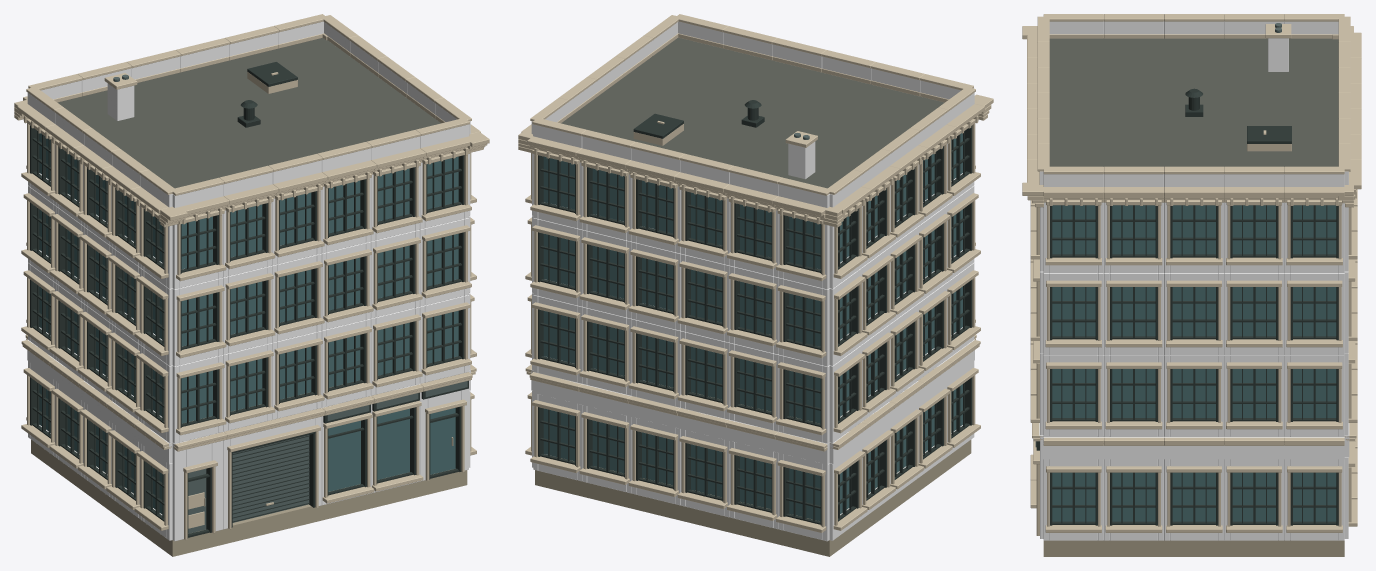
The model's file is garage-loft.glb.
3 renders of one model, left to right at view 1: azimuth 30°, elevation 25°; view 2: azimuth 150°, elevation 25°; view 3: azimuth 270°, elevation 25°, orthographic. The views are drawn at different scales.
Visible parts, largest first — view 1: Connected roof.015, Foundation.015, opening/nyc/garage/door.002, opening/nyc/garage/frame.002, nyc-main/north/0/833/wall.010, nyc-main/north/0/7500/glass.010, nyc-main/north/0/5833/glass.010, nyc-main/north/0/9167/glass.010, opening/nyc/garage/wall.002, opening/nyc/garage/trim.002, nyc-main/north/0/5833/trim.010, nyc-main/north/0/9167/wall.010 (+142 smaller); view 2: Connected roof.015, Foundation.015, nyc-main/south/1/833/wall.010, nyc-main/south/2/833/wall.010, nyc-main/south/0/833/frame.010, nyc-main/south/1/7500/glass.010, nyc-main/south/2/833/frame.010, nyc-main/south/2/7500/glass.010, nyc-main/south/0/7500/glass.010, nyc-main/south/1/833/frame.010, nyc-main/south/3/833/frame.010, nyc-main/south/3/7500/glass.010 (+154 smaller); view 3: Connected roof.015, Foundation.015, nyc-main/east/0/5000/glass.013, nyc-main/east/2/5000/glass.013, nyc-main/east/3/5000/glass.010, nyc-main/east/0/9000/glass.013, nyc-main/east/1/5000/glass.013, nyc-main/east/0/1000/glass.013, nyc-main/east/0/7000/glass.013, nyc-main/east/2/9000/glass.013, nyc-main/east/2/1000/glass.013, nyc-main/east/2/7000/glass.013 (+114 smaller).
Boxes of the visible parts, bbox=[...] form: Connected roof.015: bbox=[58, 38, 440, 188]; Foundation.015: bbox=[31, 384, 467, 556]; opening/nyc/garage/door.002: bbox=[232, 435, 309, 522]; opening/nyc/garage/frame.002: bbox=[231, 431, 315, 527]; nyc-main/north/0/833/wall.010: bbox=[172, 440, 223, 541]; nyc-main/north/0/7500/glass.010: bbox=[377, 408, 409, 479]; nyc-main/north/0/5833/glass.010: bbox=[328, 420, 360, 491]; nyc-main/north/0/9167/glass.010: bbox=[430, 408, 455, 474]; opening/nyc/garage/wall.002: bbox=[223, 416, 321, 529]; opening/nyc/garage/trim.002: bbox=[227, 424, 320, 529]; nyc-main/north/0/5833/trim.010: bbox=[322, 412, 374, 503]; nyc-main/north/0/9167/wall.010: bbox=[420, 388, 468, 481]; Connected roof.015: bbox=[561, 37, 944, 188]; Foundation.015: bbox=[535, 384, 971, 556]; nyc-main/south/1/833/wall.010: bbox=[778, 355, 829, 443]; nyc-main/south/2/833/wall.010: bbox=[778, 278, 829, 366]; nyc-main/south/0/833/frame.010: bbox=[783, 467, 821, 525]; nyc-main/south/1/7500/glass.010: bbox=[592, 323, 624, 375]; nyc-main/south/2/833/frame.010: bbox=[783, 292, 821, 350]; nyc-main/south/2/7500/glass.010: bbox=[592, 245, 624, 298]; nyc-main/south/0/7500/glass.010: bbox=[592, 420, 624, 473]; nyc-main/south/1/833/frame.010: bbox=[783, 369, 821, 427]; nyc-main/south/3/833/frame.010: bbox=[783, 215, 821, 273]; nyc-main/south/3/7500/glass.010: bbox=[592, 168, 624, 221]; Connected roof.015: bbox=[1049, 38, 1338, 166]; Foundation.015: bbox=[1043, 540, 1344, 556]; nyc-main/east/0/5000/glass.013: bbox=[1172, 472, 1215, 521]; nyc-main/east/2/5000/glass.013: bbox=[1172, 287, 1215, 336]; nyc-main/east/3/5000/glass.010: bbox=[1172, 205, 1215, 254]; nyc-main/east/0/9000/glass.013: bbox=[1052, 472, 1095, 521]; nyc-main/east/1/5000/glass.013: bbox=[1172, 369, 1215, 417]; nyc-main/east/0/1000/glass.013: bbox=[1293, 472, 1336, 521]; nyc-main/east/0/7000/glass.013: bbox=[1112, 472, 1155, 521]; nyc-main/east/2/9000/glass.013: bbox=[1052, 287, 1095, 336]; nyc-main/east/2/1000/glass.013: bbox=[1293, 287, 1336, 336]; nyc-main/east/2/7000/glass.013: bbox=[1112, 287, 1155, 336].
Bounding box in the file's own units: 13.12 × 14.96 × 11.27.
